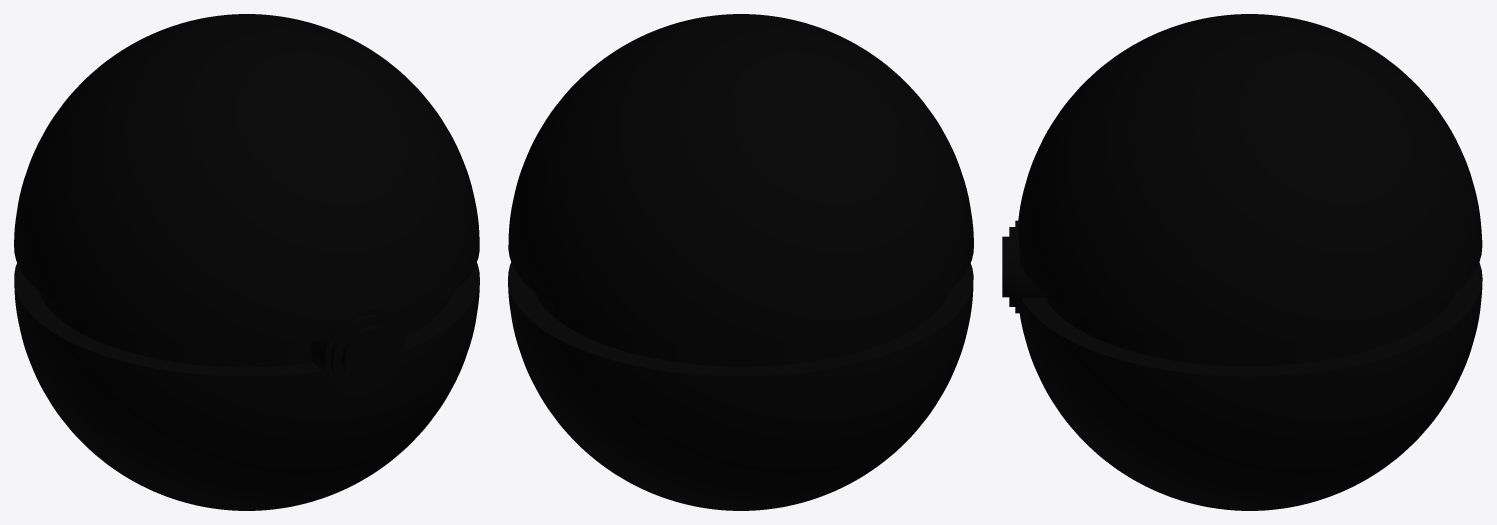
File: Premier Ball.glb
3 renders of one model, left to right at view 1: azimuth 30°, elevation 25°; view 2: azimuth 150°, elevation 25°; view 3: azimuth 270°, elevation 25°, orthographic.
Visible parts, largest first — view 1: mesh_id31, mesh_id33, mesh_id36, mesh_id44, mesh_id38, mesh_id48; view 2: mesh_id31, mesh_id33, mesh_id36; view 3: mesh_id31, mesh_id33, mesh_id36, mesh_id48, mesh_id38.
Part boxes in pixels (x1=…): mesh_id31: x1=14, y1=14, x2=479, y2=345; mesh_id33: x1=14, y1=262, x2=479, y2=510; mesh_id36: x1=38, y1=291, x2=453, y2=367; mesh_id44: x1=341, y1=326, x2=397, y2=385; mesh_id38: x1=330, y1=314, x2=402, y2=391; mesh_id48: x1=310, y1=307, x2=405, y2=395; mesh_id31: x1=508, y1=14, x2=973, y2=345; mesh_id33: x1=508, y1=262, x2=973, y2=510; mesh_id36: x1=535, y1=290, x2=949, y2=366; mesh_id31: x1=1018, y1=14, x2=1482, y2=345; mesh_id33: x1=1019, y1=262, x2=1482, y2=510; mesh_id36: x1=1045, y1=293, x2=1454, y2=366; mesh_id48: x1=1015, y1=220, x2=1044, y2=313; mesh_id38: x1=1009, y1=227, x2=1015, y2=306.
Bounding box in the file's own units: 0.4057 × 0.4351 × 0.4181.
Materials: 6 (6 with a texture image).
